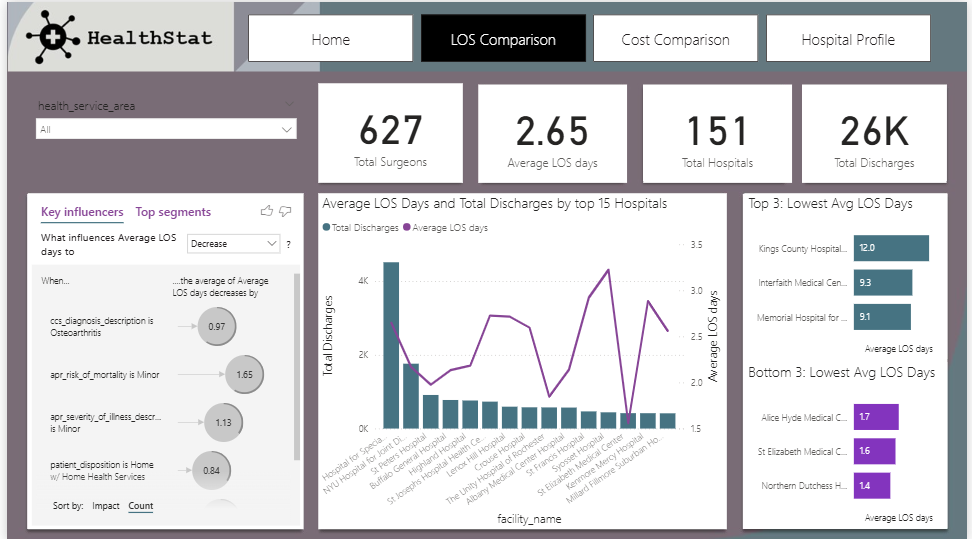

What the dashboard file says about the page in this screenshot:
{"tool":"powerbi","page":{"name":"LOS Comparison","canvas":[1280,720],"ordinal":1},"visuals":[{"type":"lineStackedColumnComboChart","title":"Average LOS Days and Total Discharges by top 15 Hospitals","fields":{"Y":["_Measures.Total Discharges"],"Y2":["_Measures.Average LOS days"],"Category":["hospital_discharges.facility_name"]},"box":[415.5,255.2,544.8,448.3],"z":0},{"type":"card","fields":{"Values":["_Measures.Total Surgeons"]},"box":[415.5,108.6,193.1,132.8],"z":1000},{"type":"slicer","fields":{"Values":["hospital_discharges.health_service_area"]},"box":[27.6,122.4,367.2,87.9],"z":2000},{"type":"keyDriversVisual","fields":{"ExplainBy":["hospital_discharges.apr_risk_of_mortality","hospital_discharges.apr_severity_of_illness_description","hospital_discharges.ccs_diagnosis_description","hospital_discharges.patient_disposition","hospital_discharges.gender","hospital_discharges.health_service_area","surgical_program_volume_summary.Surgical Program Size","hospital_discharges.age_group"],"Target":["_Measures.Average LOS days"]},"box":[27.6,255.2,367.2,448.3],"z":3000},{"type":"clusteredBarChart","title":"Top 3: Lowest Avg LOS Days","fields":{"Y":["_Measures.Average LOS days"],"Category":["hospital_discharges.facility_name"]},"box":[982.8,255.2,270.7,220.7],"z":4000},{"type":"clusteredBarChart","title":"Bottom 3: Lowest Avg LOS Days","fields":{"Y":["_Measures.Average LOS days"],"Category":["hospital_discharges.facility_name"]},"box":[982.8,479.3,270.7,220.7],"z":5000},{"type":"card","fields":{"Values":["_Measures.Average LOS days"]},"box":[627.6,110.3,198.3,131],"z":5001},{"type":"card","fields":{"Values":["_Measures.Total Hospitals"]},"box":[848.3,110.3,198.3,131],"z":5002},{"type":"card","fields":{"Values":["_Measures.Total Discharges"]},"box":[1060.3,110.3,193.1,131],"z":5003},{"type":"pageNavigator","box":[322.4,17.2,913.8,63.8],"z":5004}]}

Visuals, with their boxes in screenshot pixels (x1, y1, x2, y2), scaled from the page's 1280x720 canvas onto the 972x539 screenshot:
"Average LOS Days and Total Discharges by top 15 Hospitals" lineStackedColumnComboChart: <box>316,191,729,527</box>
card - _Measures.Total Surgeons: <box>316,81,462,181</box>
slicer - hospital_discharges.health_service_area: <box>21,92,300,157</box>
keyDriversVisual - hospital_discharges.apr_risk_of_mortality x hospital_discharges.apr_severity_of_illness_description: <box>21,191,300,527</box>
"Top 3: Lowest Avg LOS Days" clusteredBarChart: <box>746,191,952,356</box>
"Bottom 3: Lowest Avg LOS Days" clusteredBarChart: <box>746,359,952,524</box>
card - _Measures.Average LOS days: <box>477,83,627,181</box>
card - _Measures.Total Hospitals: <box>644,83,795,181</box>
card - _Measures.Total Discharges: <box>805,83,952,181</box>
pageNavigator: <box>245,13,939,61</box>
